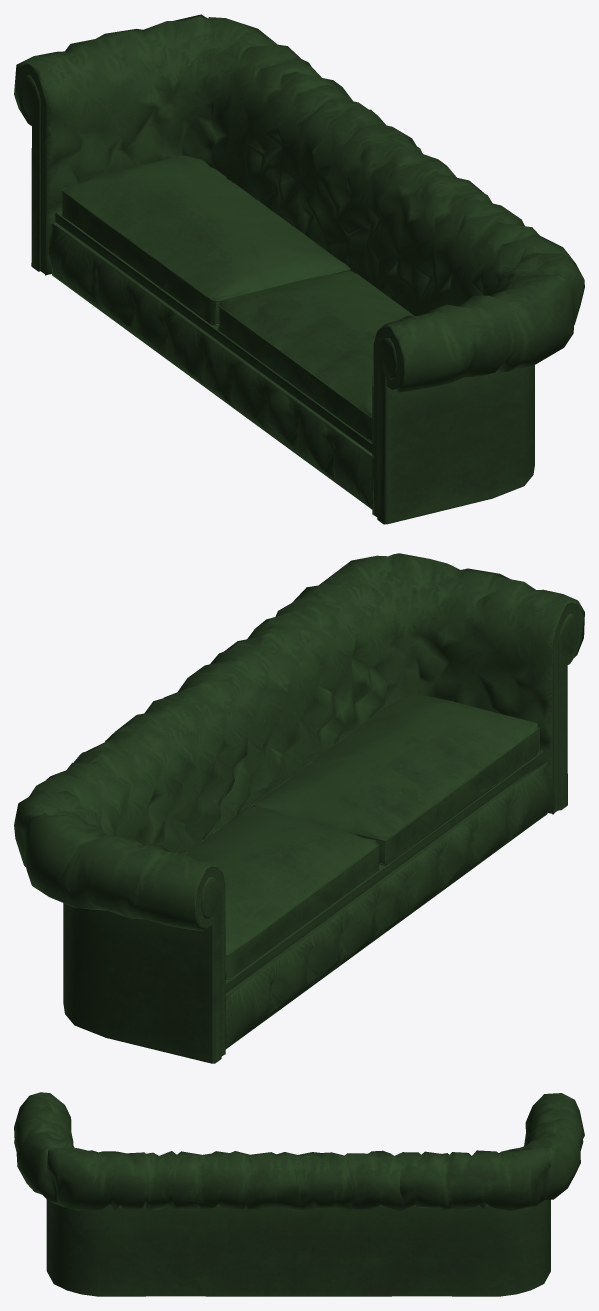
The model's file is mdl_hub_vintageleathersofa.gltf.
3 views of the same model, one above another, from view 1: azimuth 30°, elevation 25°; view 2: azimuth 150°, elevation 25°; view 3: azimuth 270°, elevation 25° (orthographic). The views are drawn at different scales.
Parts seen in each view (by area): view 1: Cube.111; view 2: Cube.111; view 3: Cube.111.
Part boxes in pixels (x1=…): Cube.111: x1=14, y1=14, x2=584, y2=524; Cube.111: x1=14, y1=553, x2=584, y2=1063; Cube.111: x1=14, y1=1092, x2=584, y2=1296.
Bounding box in the file's own units: 2.49 × 2.13 × 7.34.
Materials: 1 (1 with a texture image).
